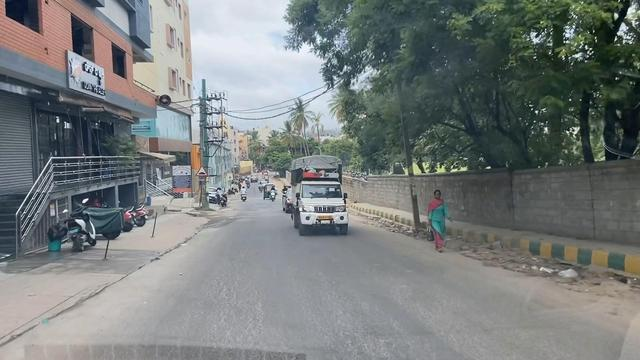HMV: (286, 145, 356, 238)
LMV: (63, 198, 101, 262)
